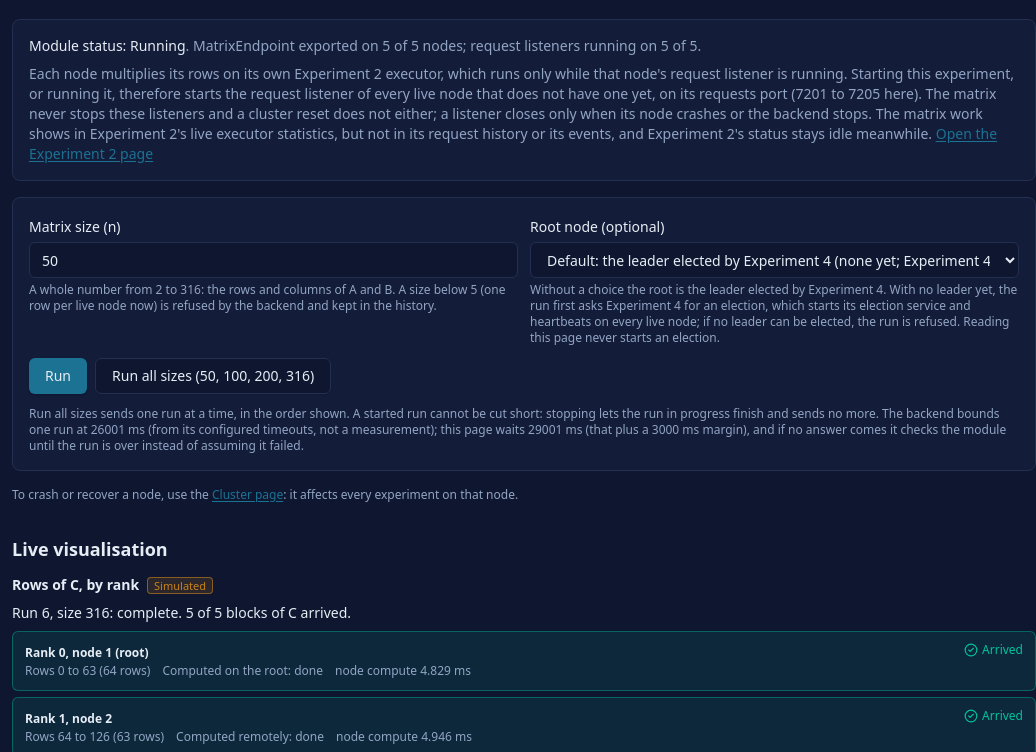
it: MatrixPage: states › after a client timeout locks the controls and says the run may still be going
The image size is (1036, 752).
(page scrolled)
Expected: the element with test id "module-status" is shown, [29,36,701,55]
What coordinates should you click on to do the following:
click the button "Run"
I would click on:
 (58, 376)
Its box is [29,358,87,394].
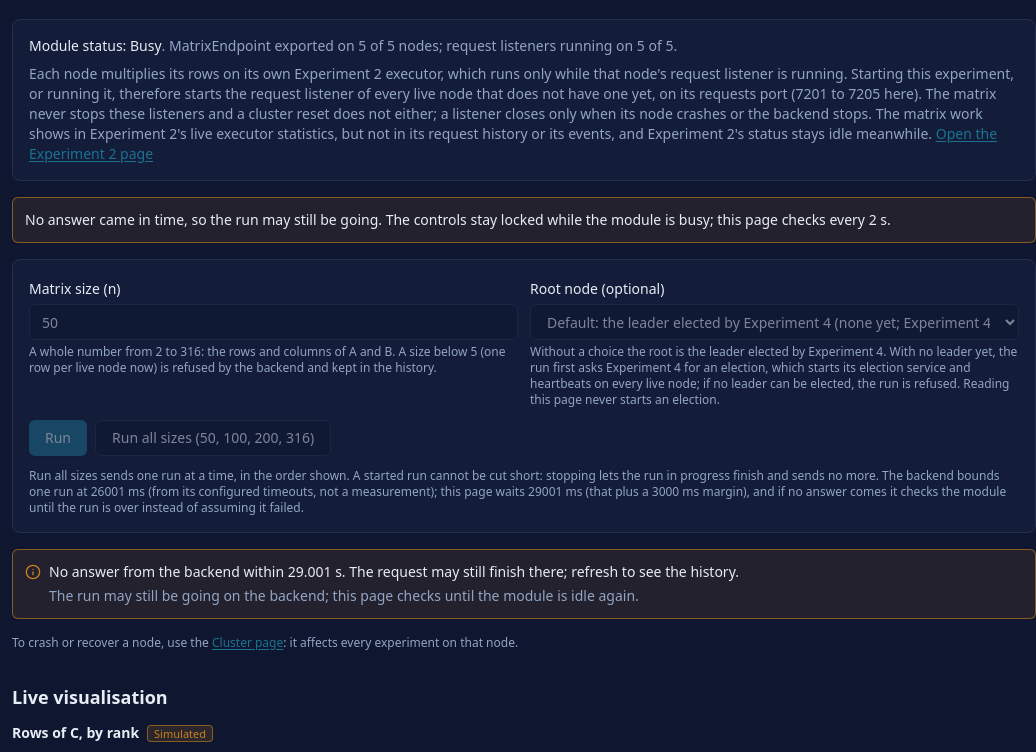
Expected: the message with test id "awaiting-idle" is shown, [12,197,1035,243]
Expected: the button "Run" is disabled, [29,420,87,456]
